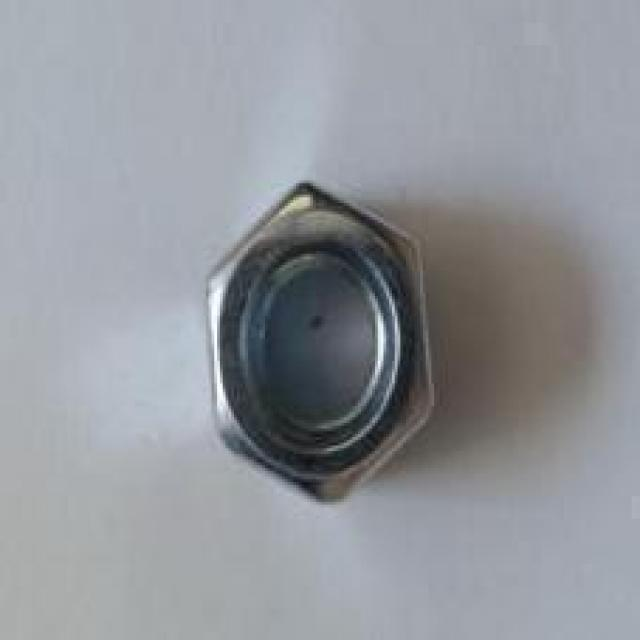ecrouOK: (200, 176, 438, 507)
